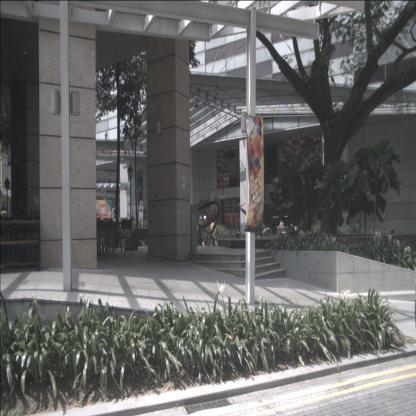human-pedestrian-adult: (0, 202, 6, 232)
